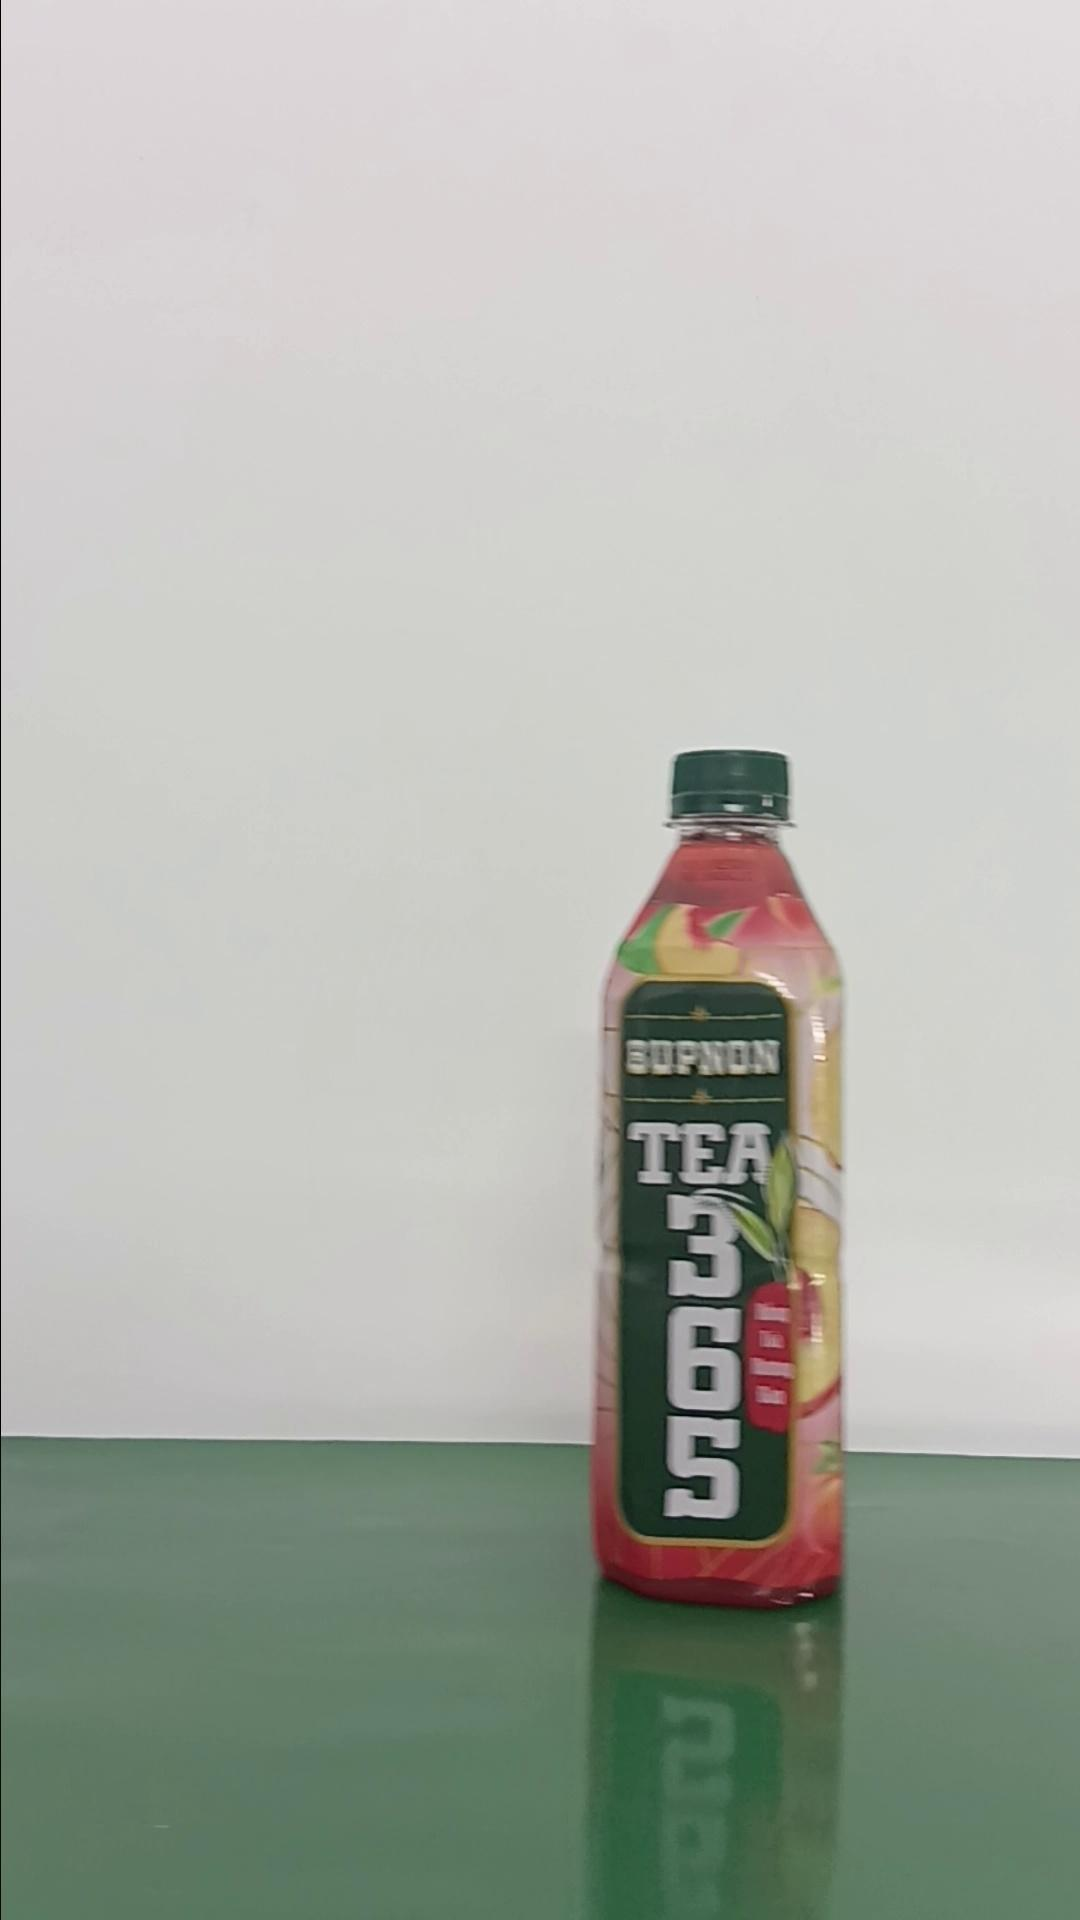khong loi: (587, 745, 848, 1609)
